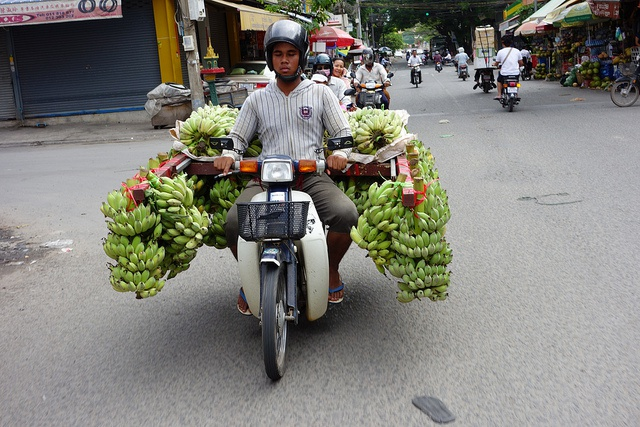non-vehicle: (211, 136, 336, 381), (344, 71, 395, 110), (610, 54, 640, 107), (495, 75, 521, 112), (408, 63, 424, 88), (478, 73, 497, 92), (519, 65, 530, 81), (458, 64, 468, 81), (435, 60, 442, 72)
